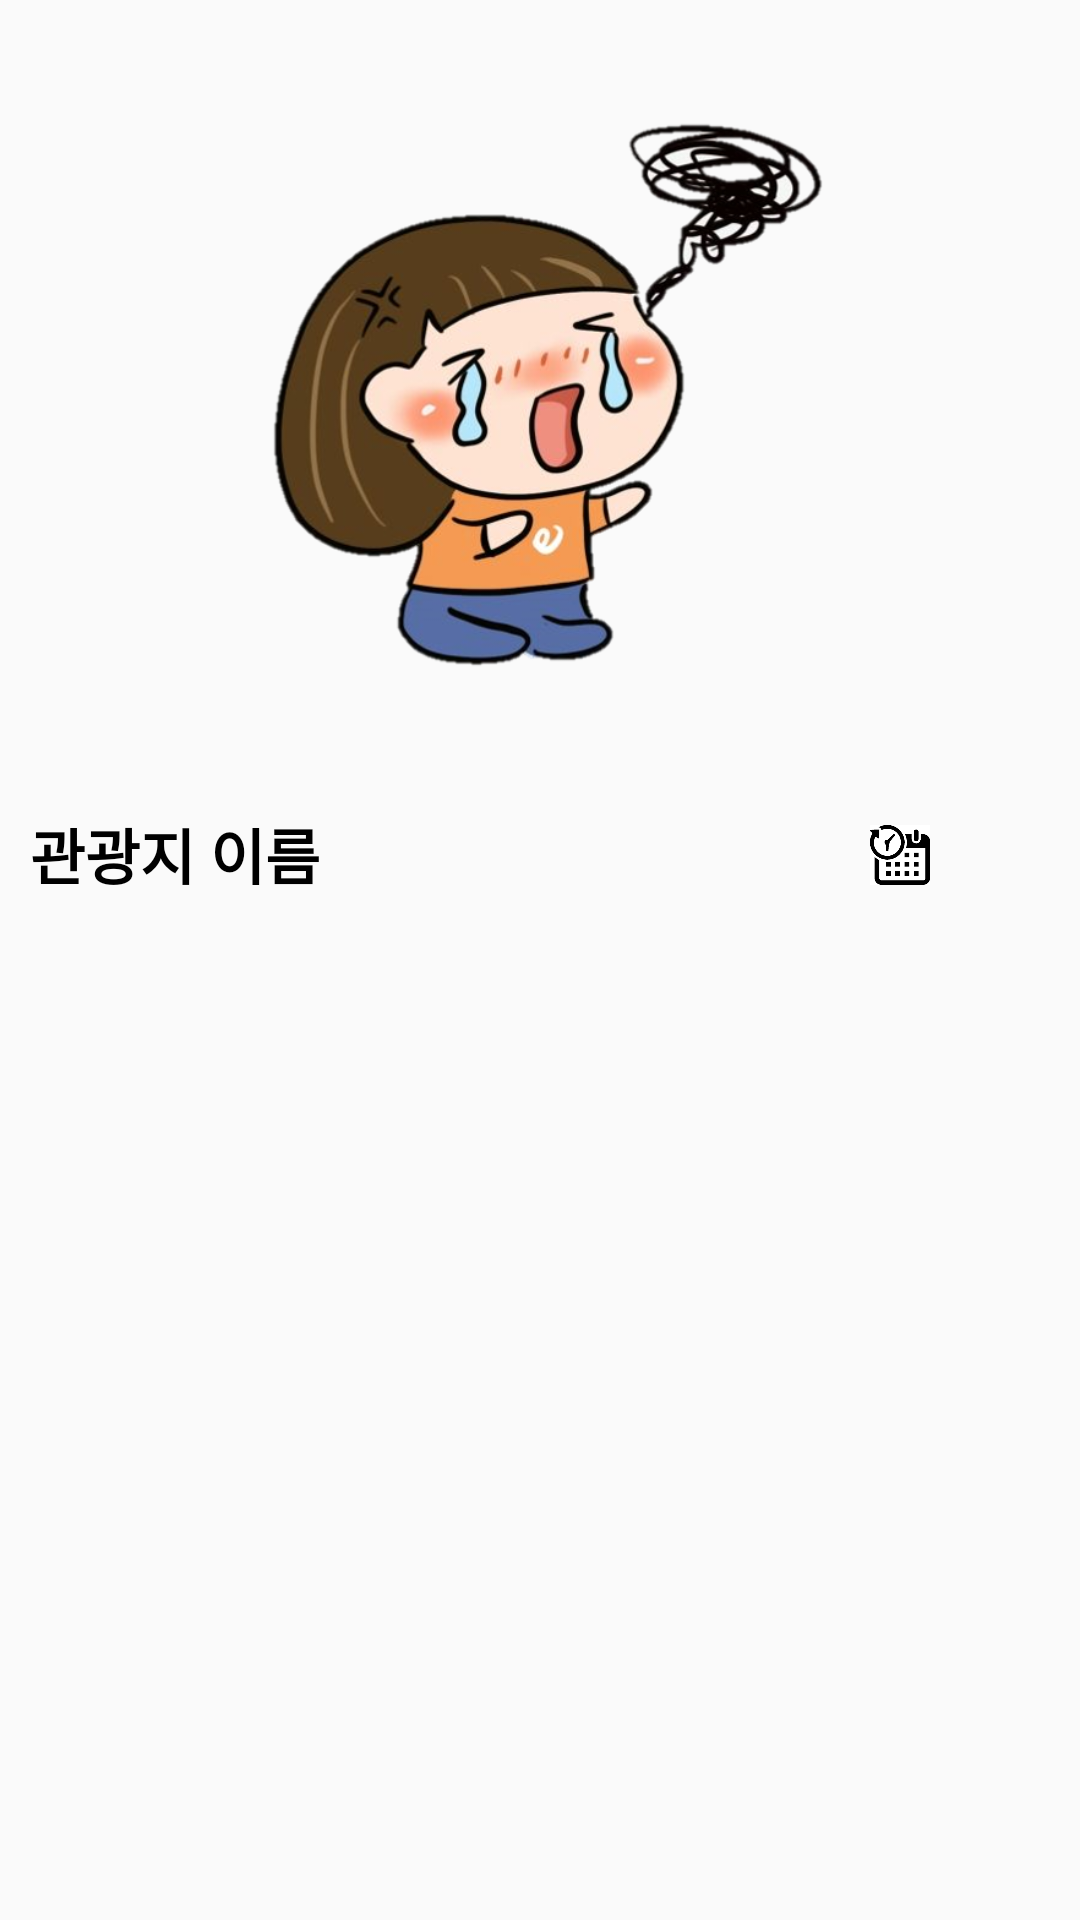

Where icons sit on this 1080×1920 app screen, as (x1, y1, x2, y2):
opentime: (870, 825, 930, 885)
